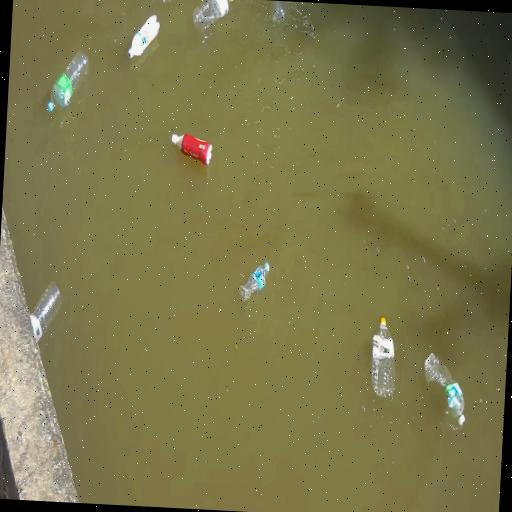plastic: (424, 354, 464, 425), (47, 51, 87, 112), (370, 317, 399, 401), (29, 281, 64, 344), (192, 0, 234, 34), (127, 15, 159, 58), (171, 134, 211, 165), (238, 263, 268, 302), (269, 0, 284, 24)
